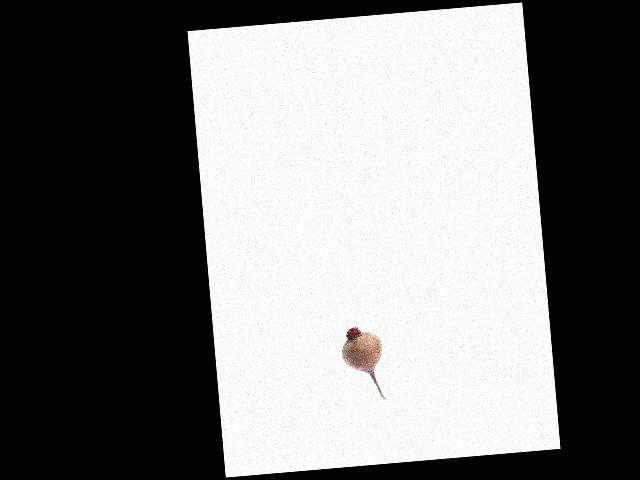beet: (338, 325, 386, 402)
